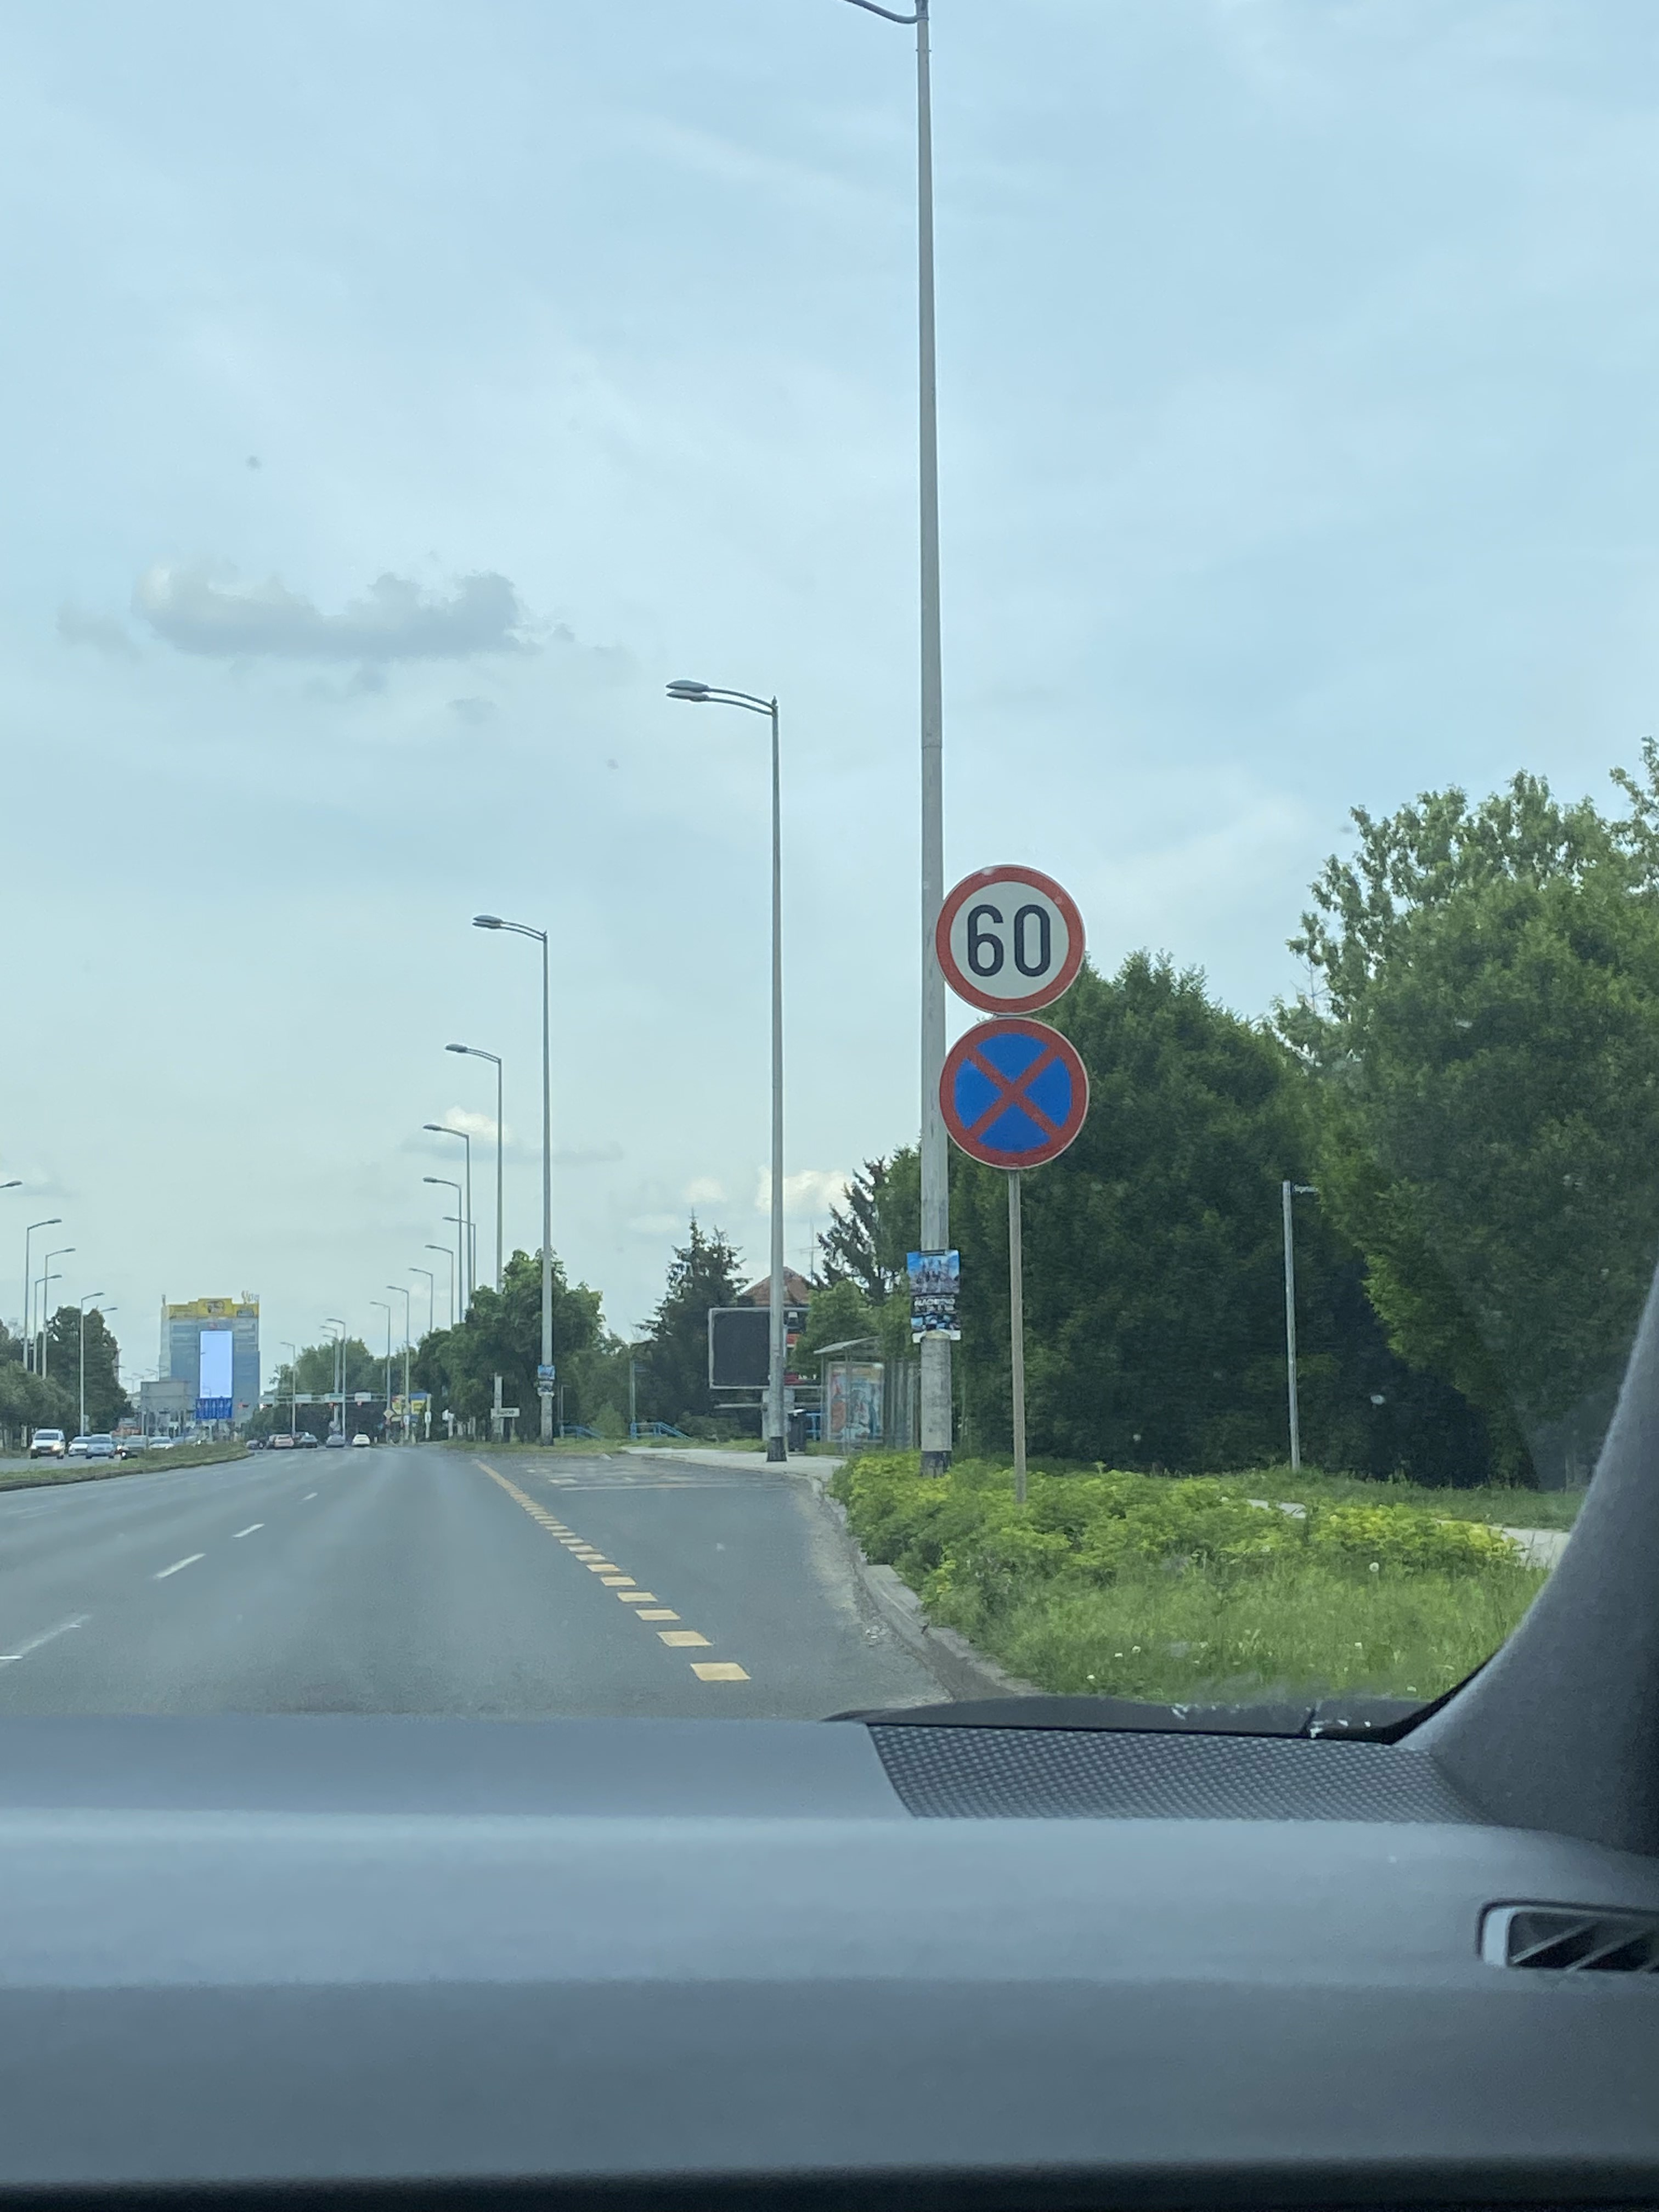Ograničenje brzine 60: (934, 864, 1086, 1015)
